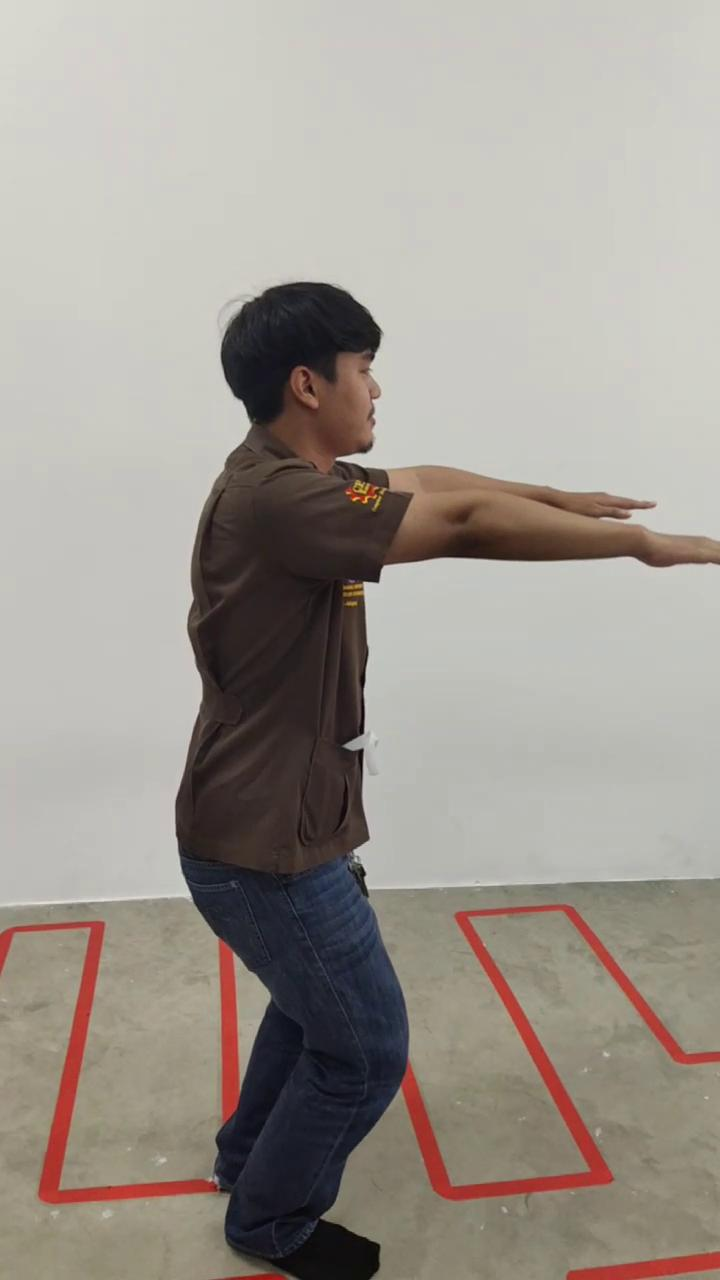squat up: (175, 282, 718, 1280)
